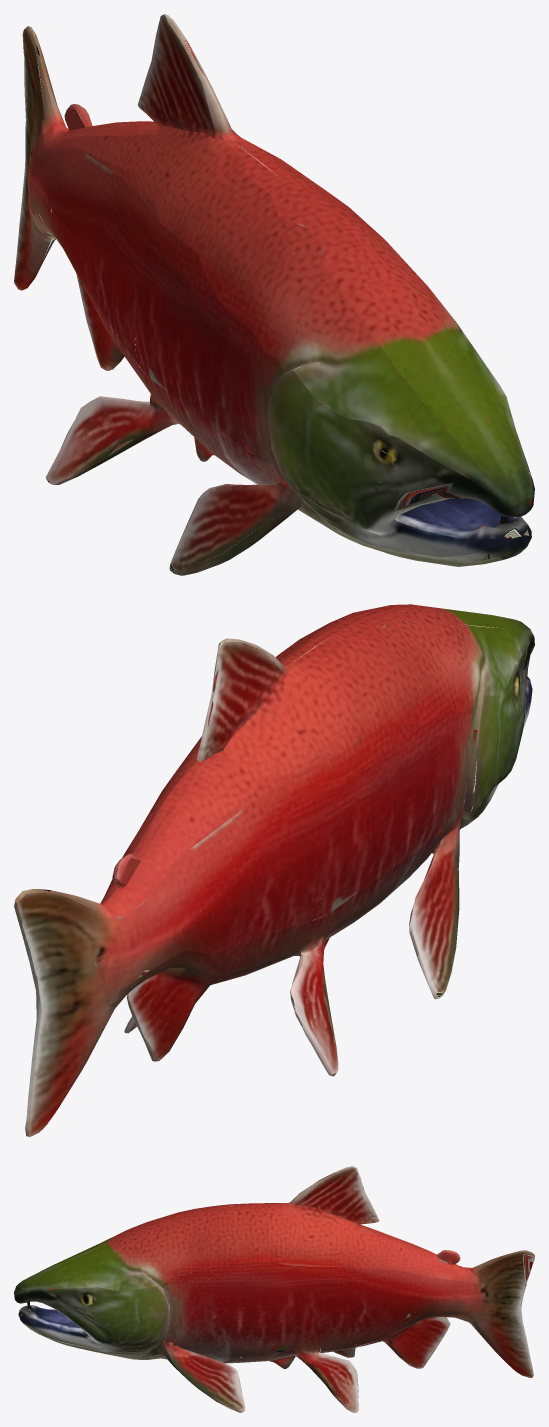
Rendered from salmao.glb.
The picture shows the model from 3 angles, top to bottom: view 1: azimuth 30°, elevation 25°; view 2: azimuth 150°, elevation 25°; view 3: azimuth 270°, elevation 25°; orthographic projection. The views are drawn at different scales.
Parts seen in each view (by area): view 1: geometry_0; view 2: geometry_0; view 3: geometry_0.
Boxes of the visible parts, x1,y1,x2,y2 form: geometry_0: (14, 14, 534, 575); geometry_0: (14, 604, 534, 1137); geometry_0: (14, 1166, 534, 1412).
Size of the model in its own units: 0.2098 by 0.3524 by 0.75.
1 material, 1 textured.
